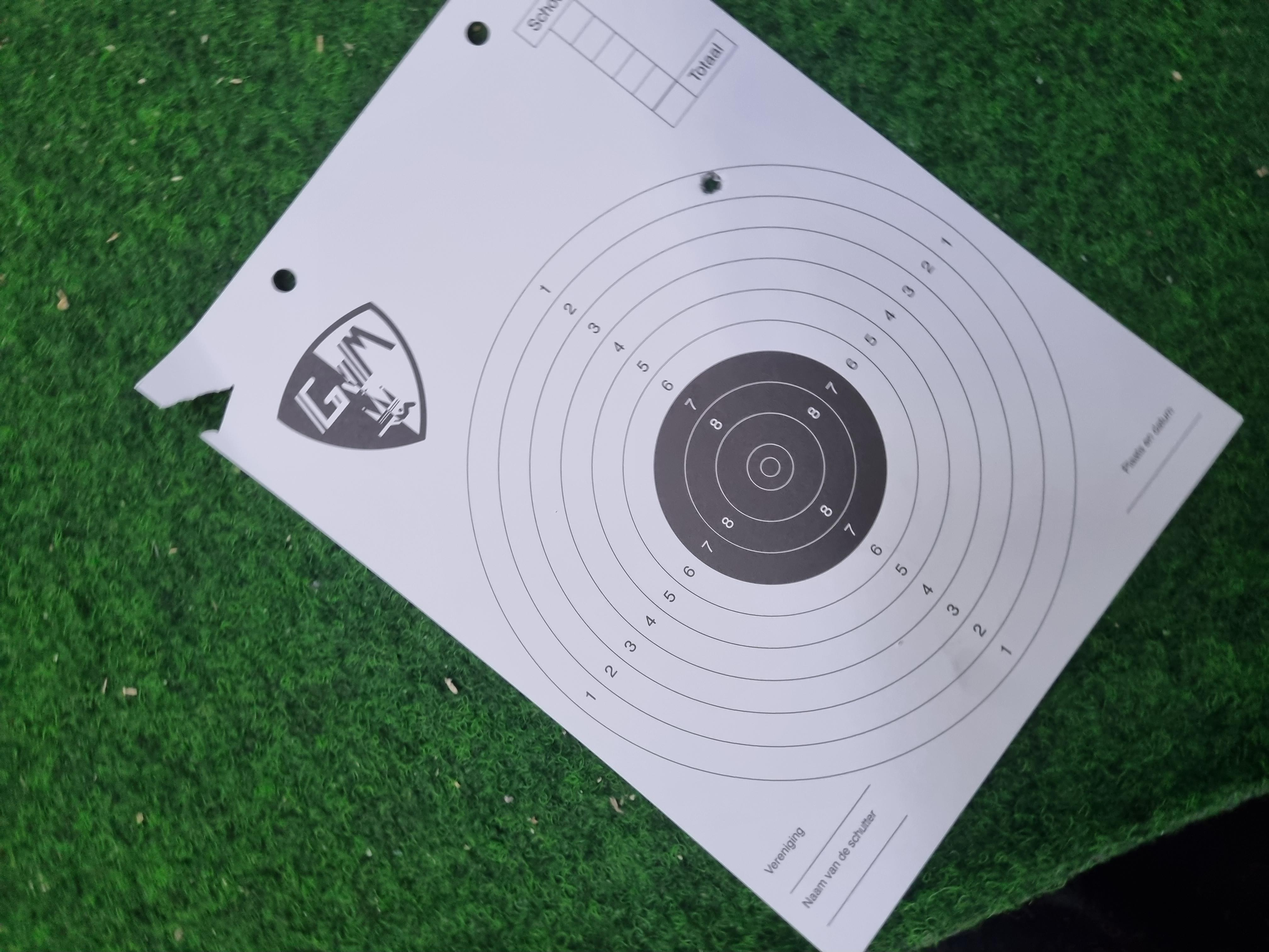hole: (1009, 524, 1042, 543)
